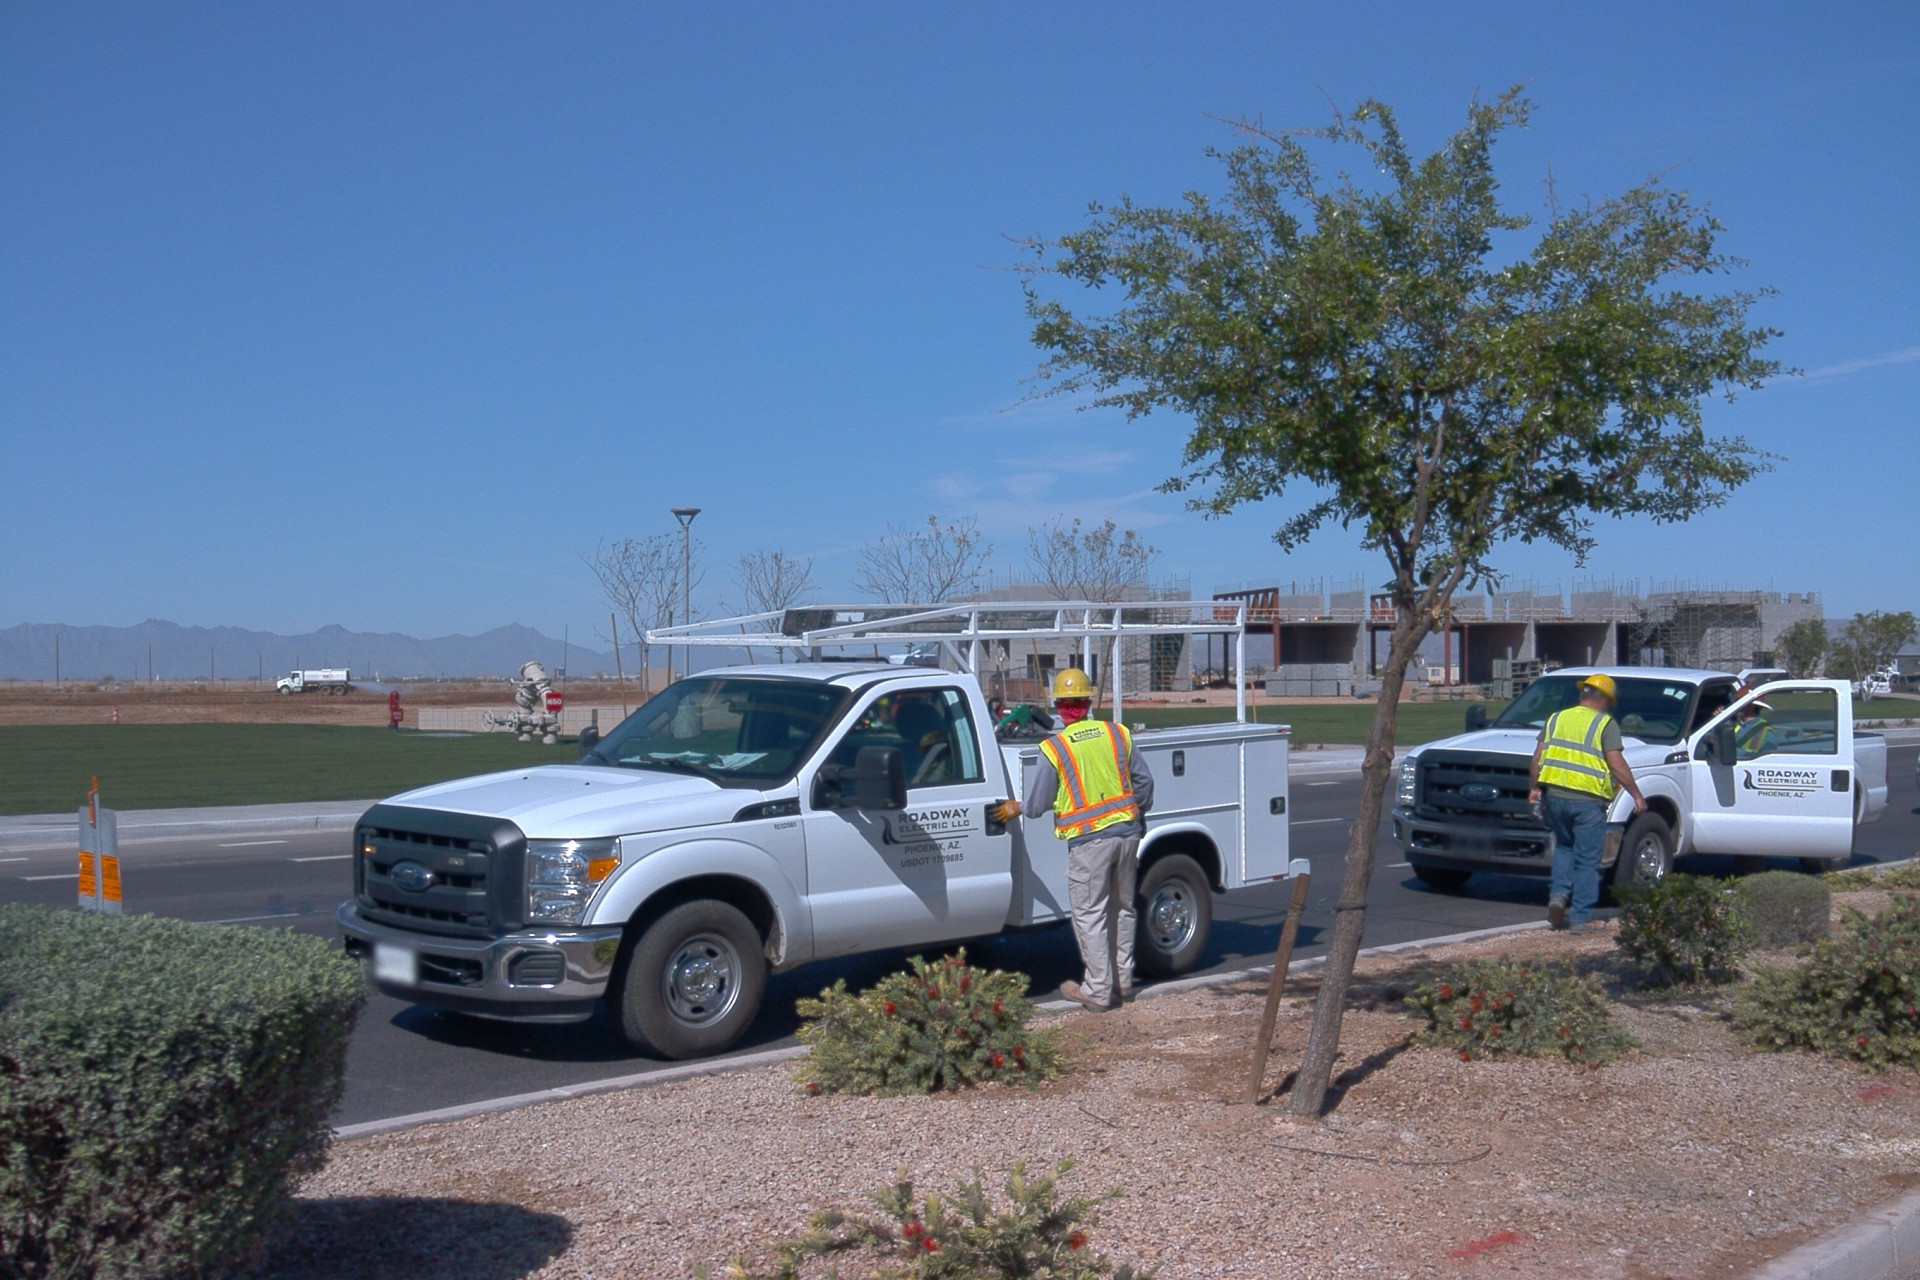TYPE_PEDESTRIAN: (981, 662, 1156, 1014), (1527, 672, 1651, 938), (1711, 682, 1773, 875)
TYPE_VEHICLE: (333, 599, 1315, 1065), (1390, 669, 1885, 907), (279, 664, 357, 705), (1793, 680, 1857, 702), (1853, 668, 1900, 689), (1846, 674, 1892, 695), (1883, 680, 1920, 702), (1744, 675, 1792, 690), (1190, 670, 1224, 689), (909, 641, 940, 656)
